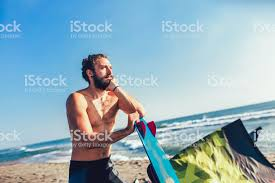white_male: (82, 53, 126, 87)
